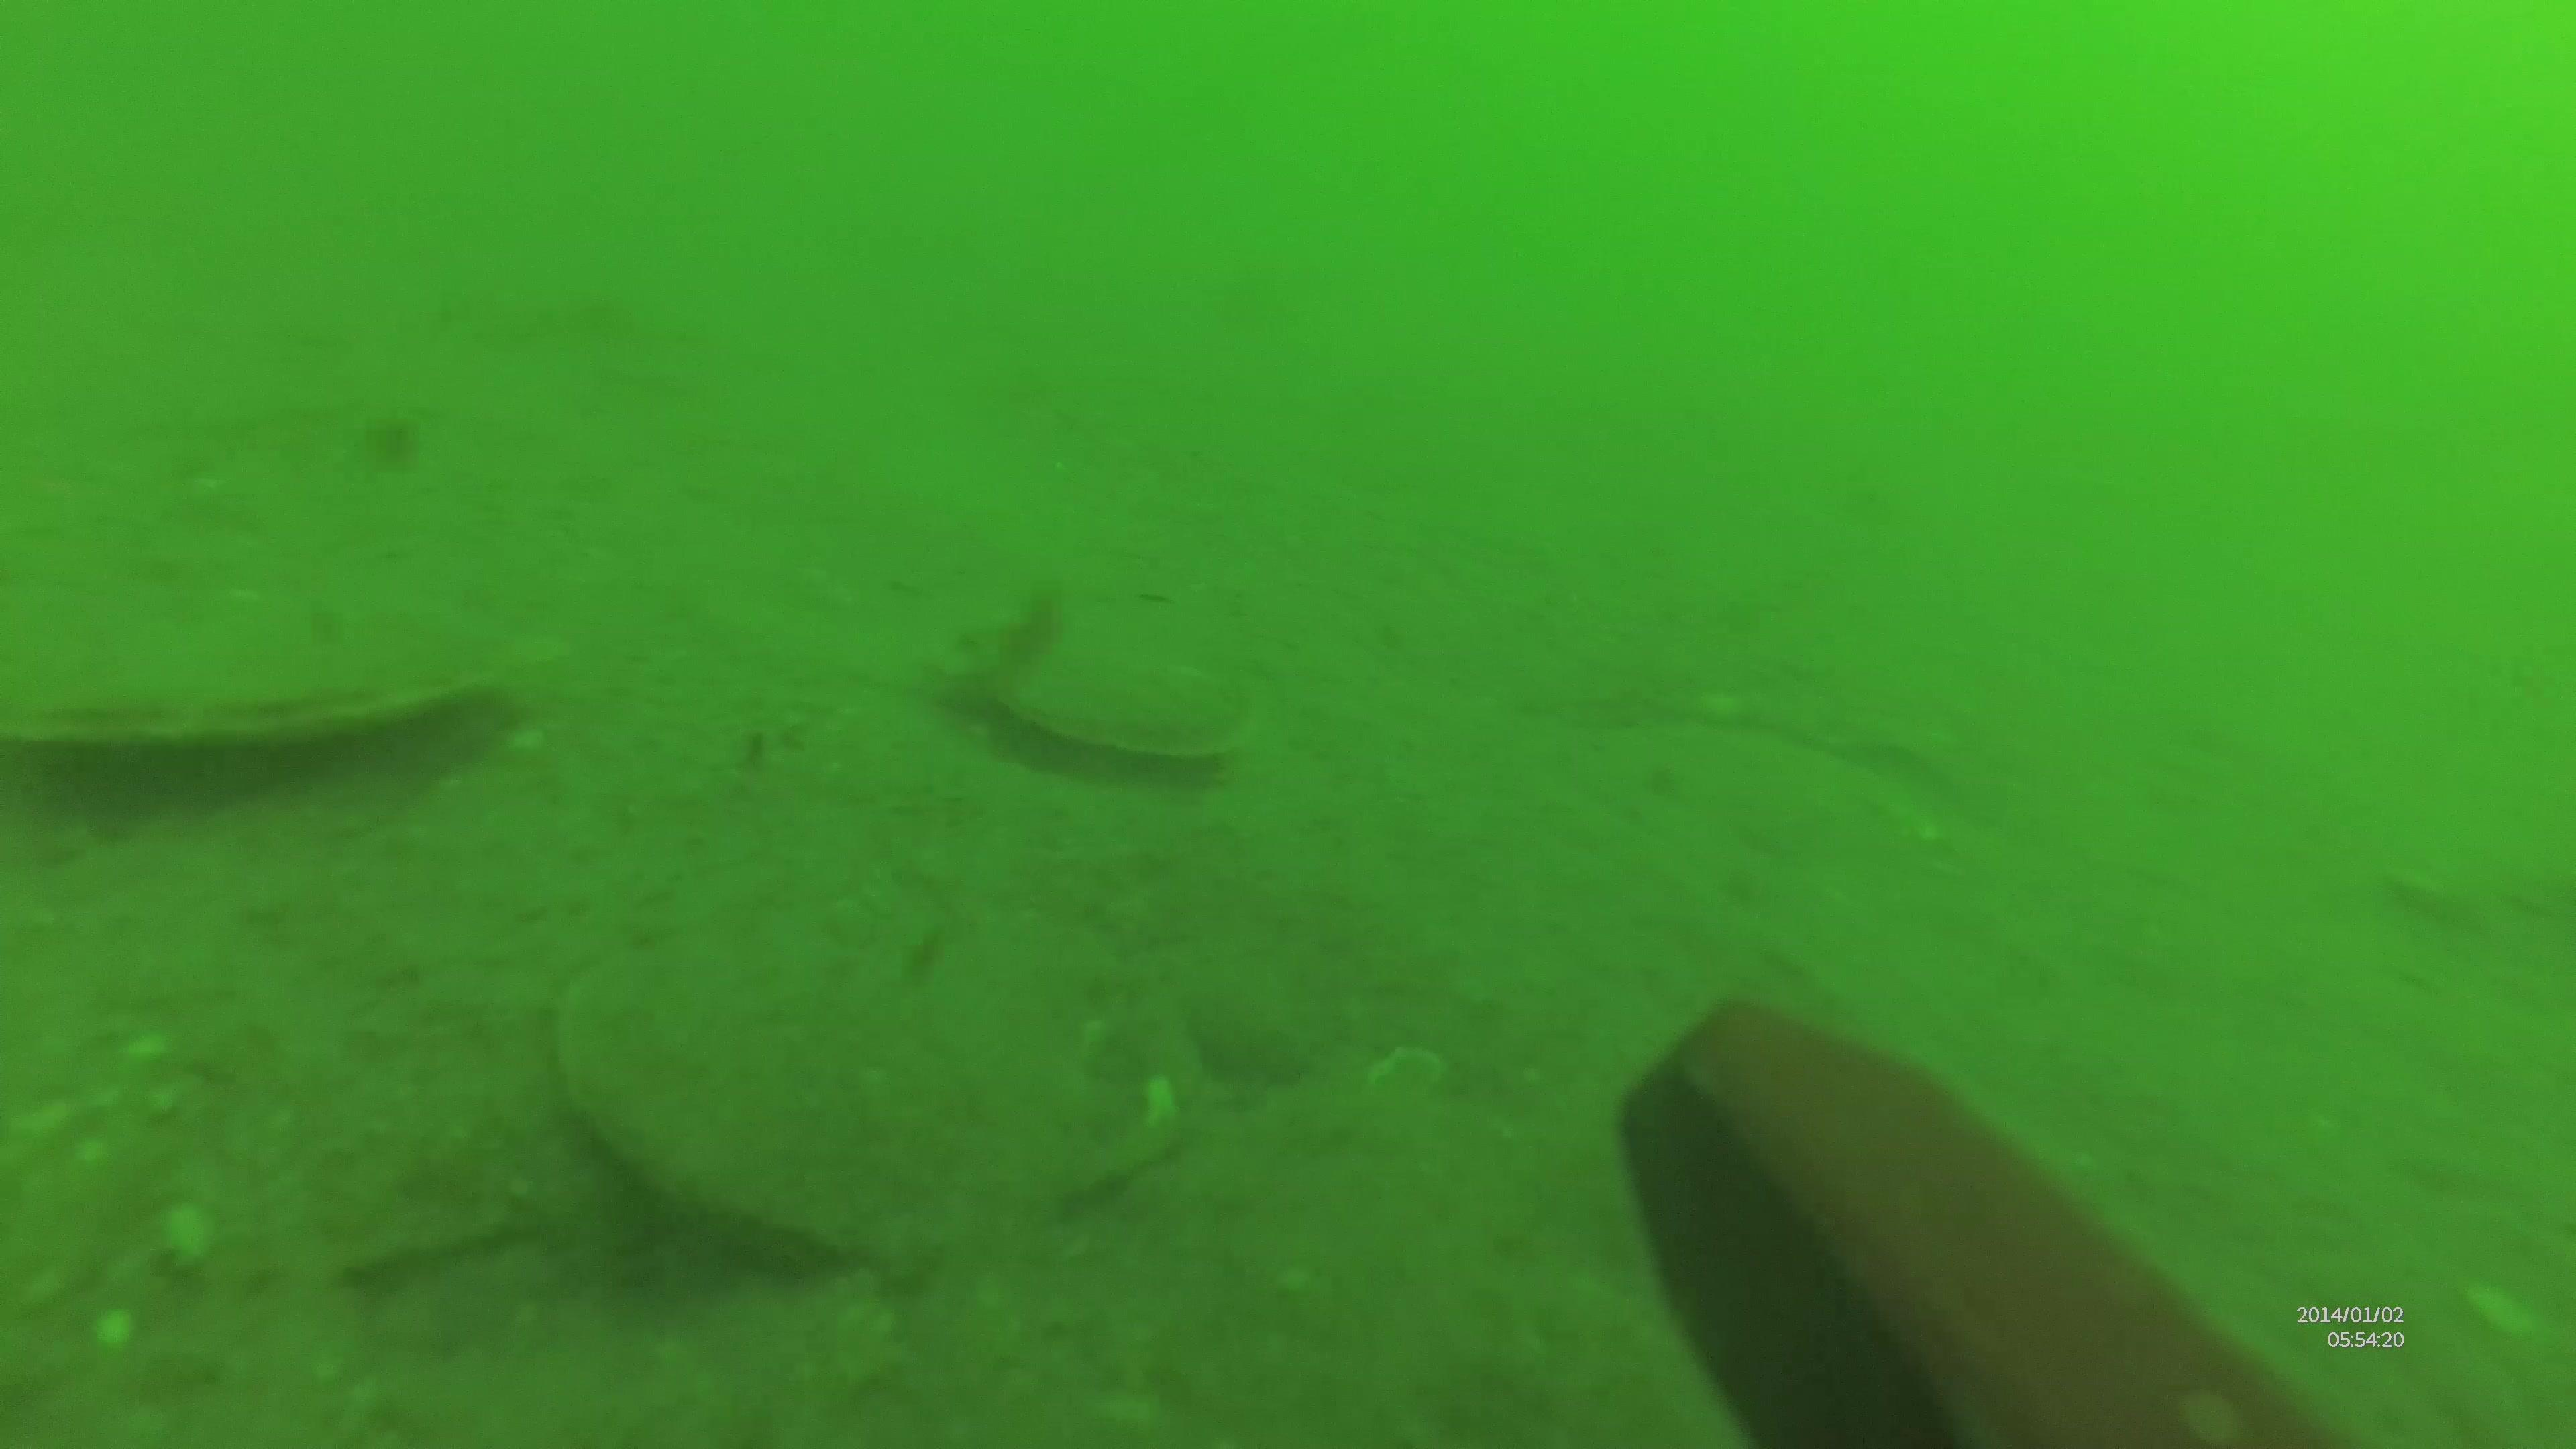scallop: (556, 920, 1210, 1272), (4, 591, 563, 773), (982, 649, 1253, 766)
